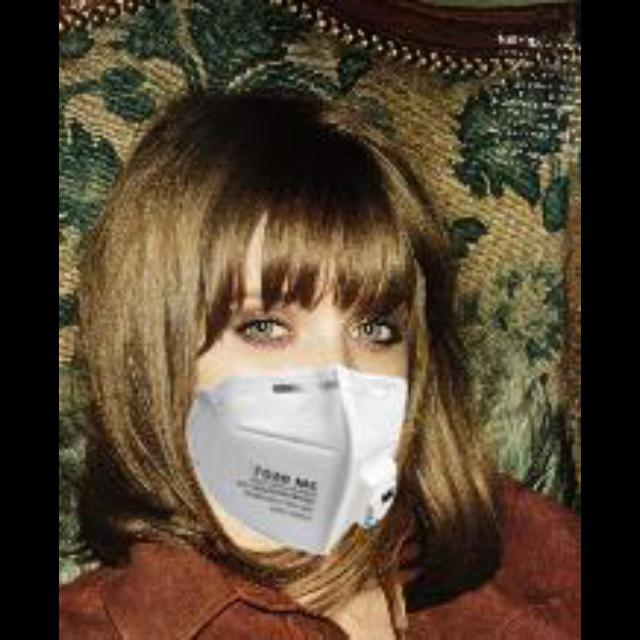suspicion: (90, 76, 472, 548)
